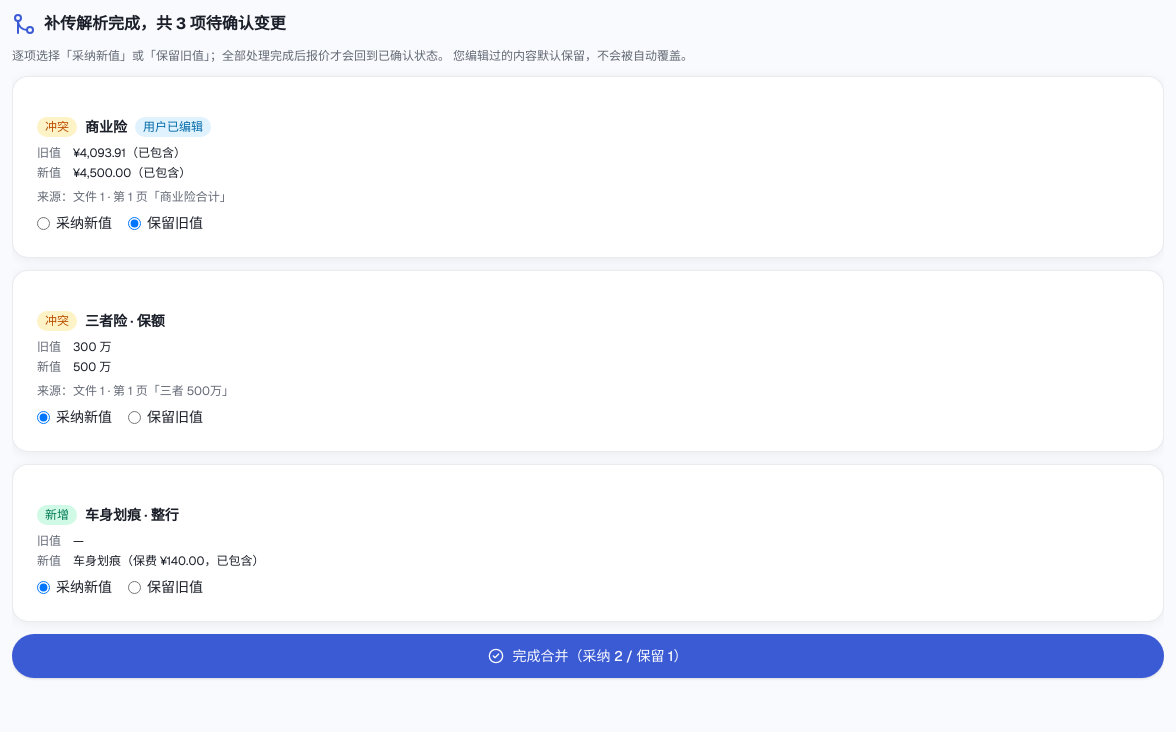
it: MergeReviewList：合并变更清单 › resolve 失败（如仍有未裁决项）展示中文错误且不清空清单
The width and height of the screenshot is (1176, 732).
Click the button "完成合并（采纳 2 / 保留 1）" at (588, 656), box x1=12 y1=634 x2=1164 y2=678
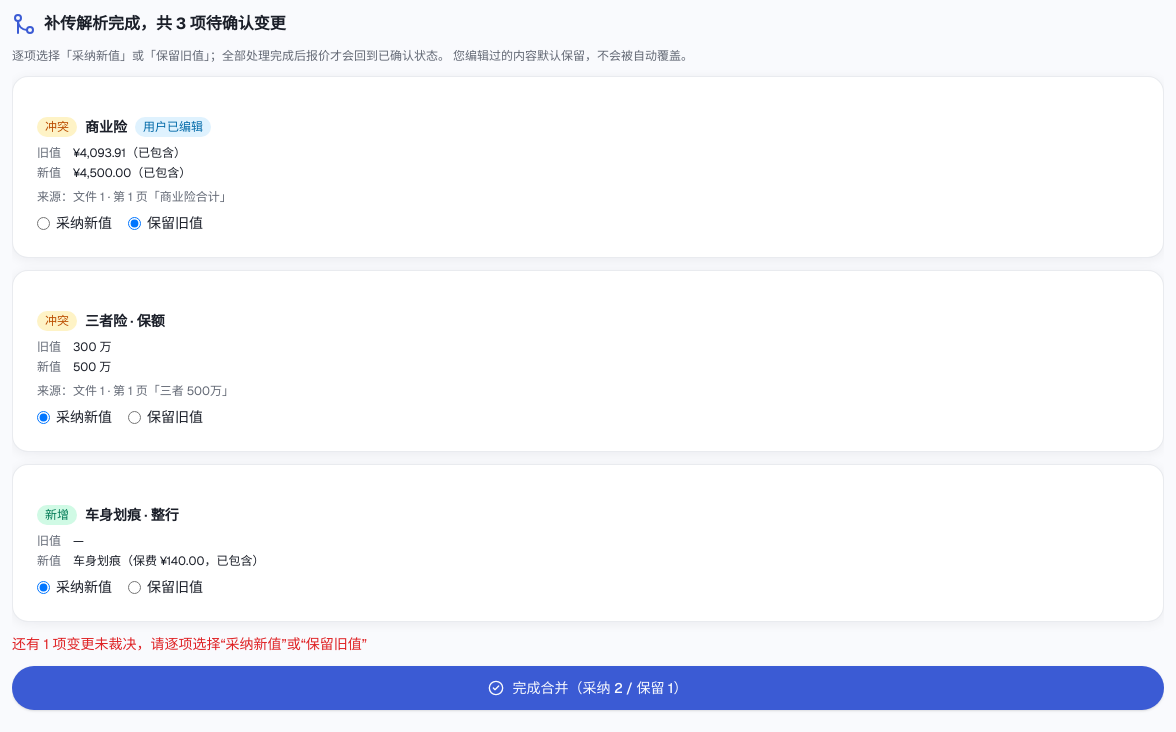
Expected: the heading "补传解析完成，共 3 项待确认变更" is shown, x1=44 y1=12 x2=286 y2=36
Expected: the message shows "还有 1 项变更未裁决", x1=12 y1=635 x2=367 y2=653
